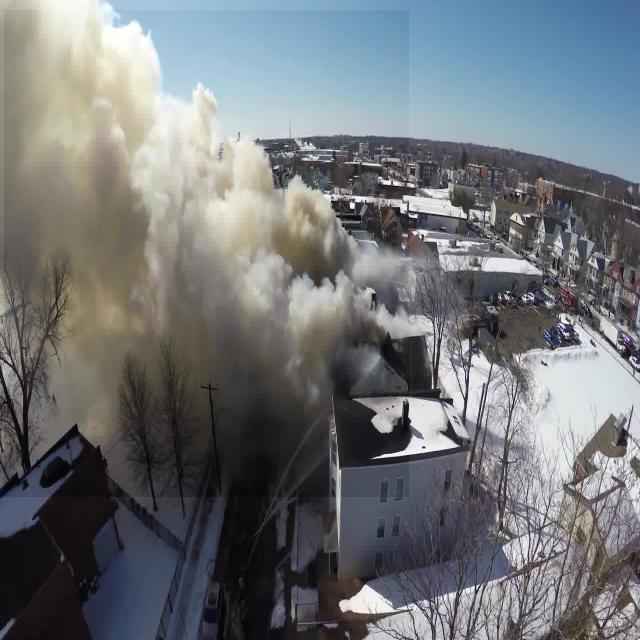Smoke: (4, 10, 409, 497)
